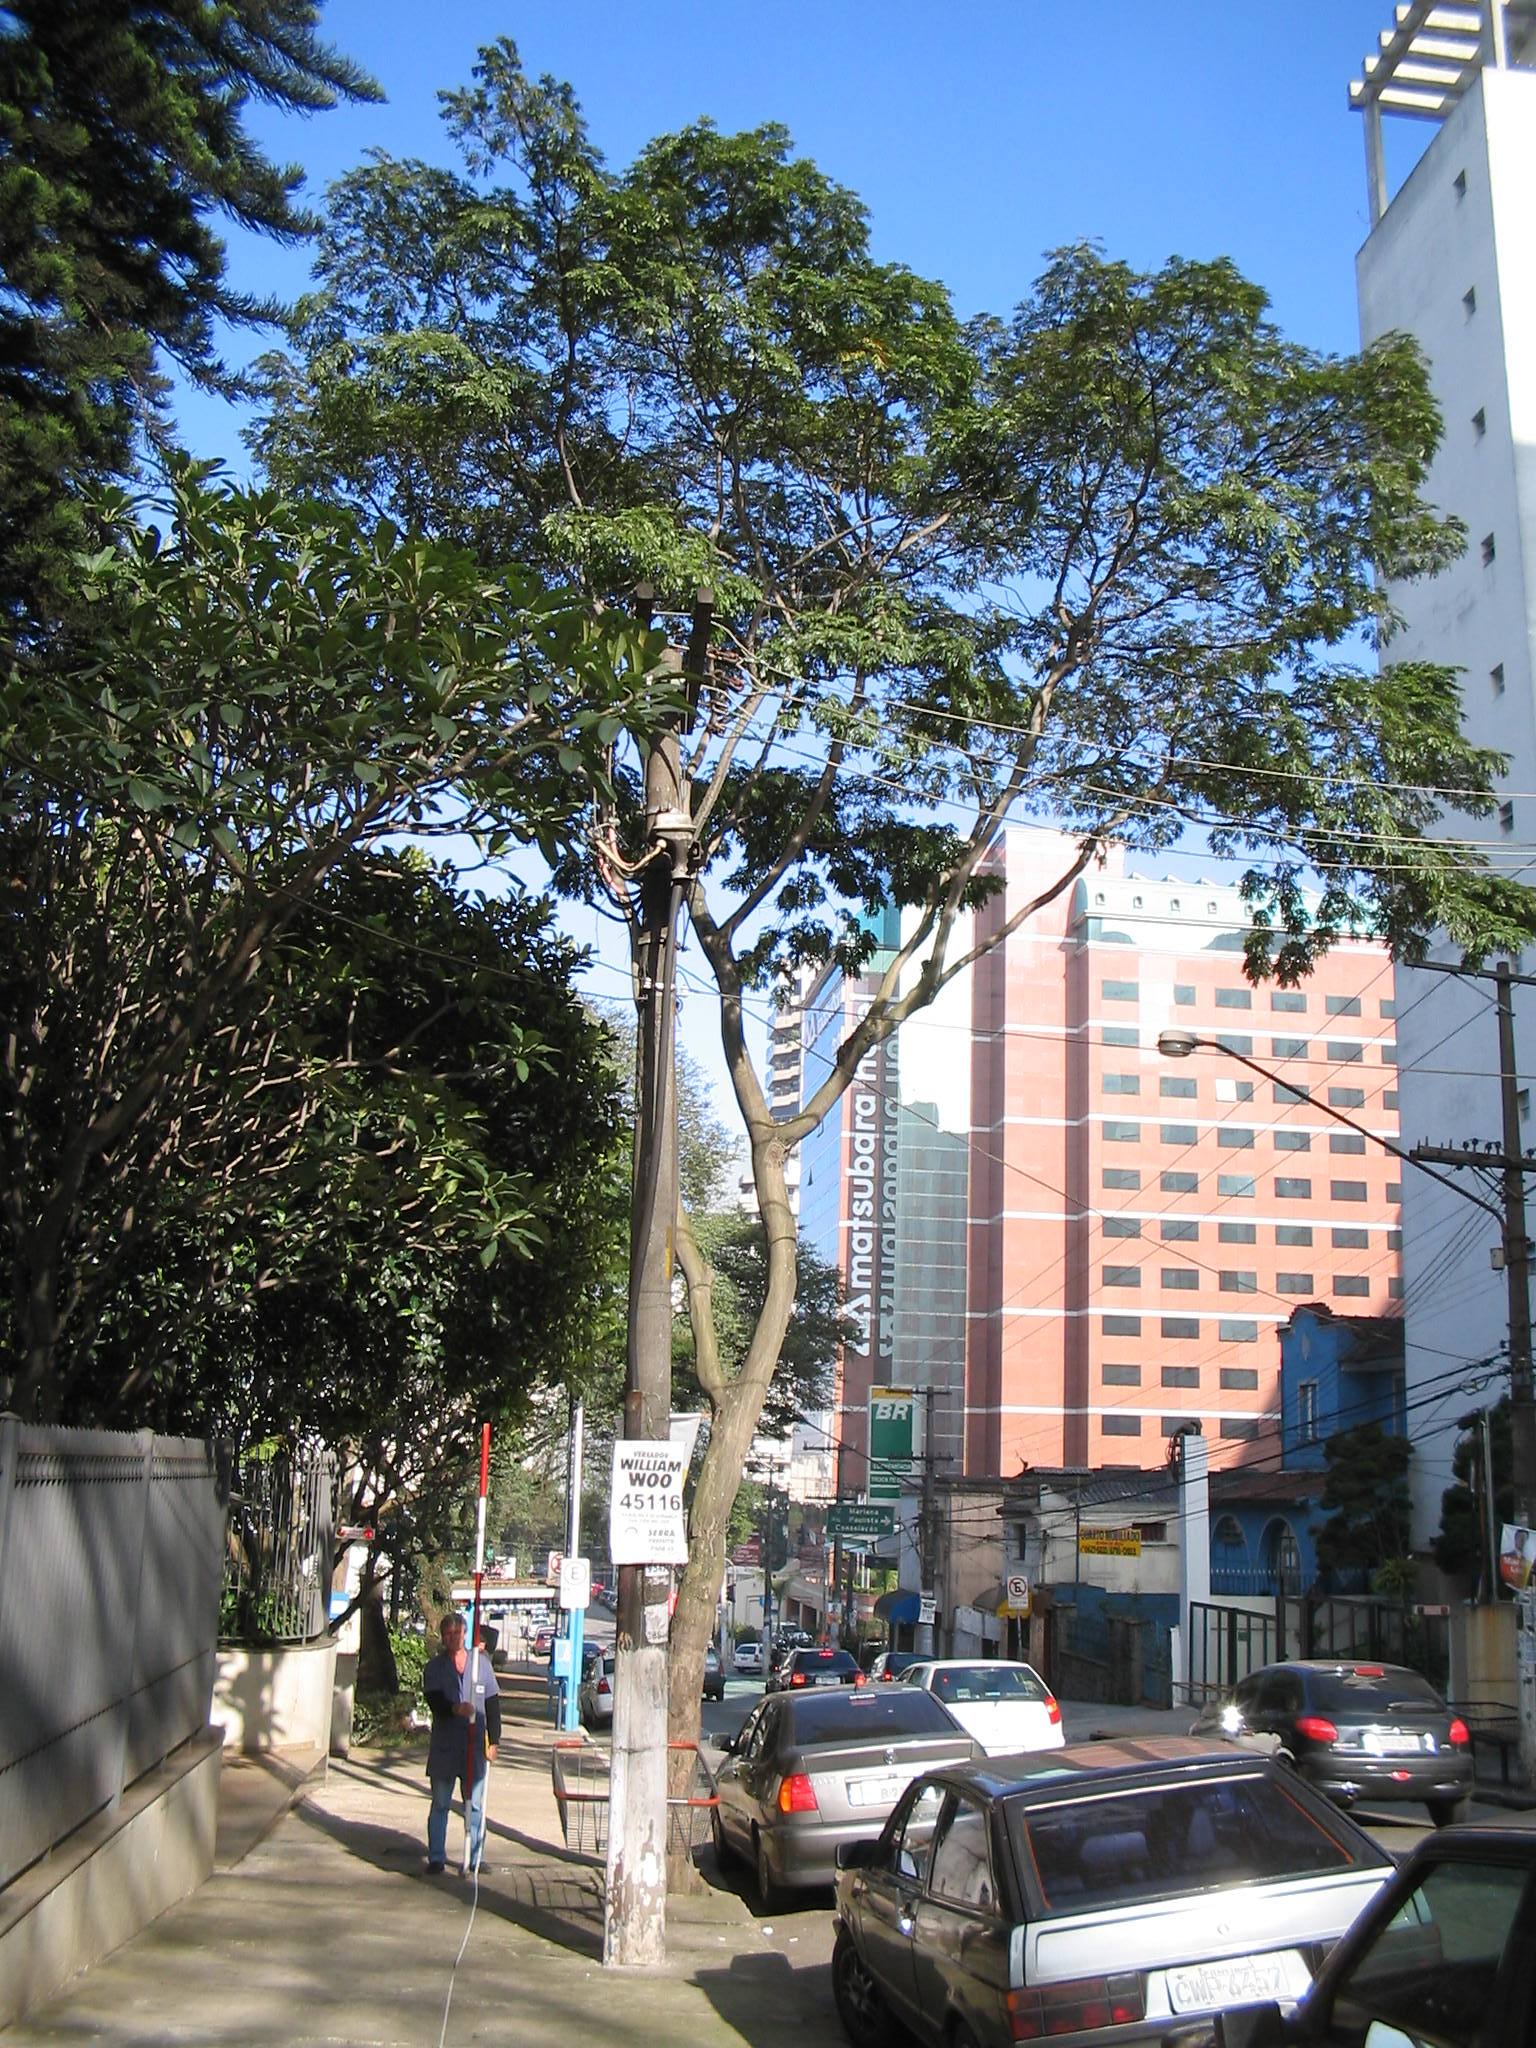crown: (287, 124, 1530, 1024)
stem: (644, 1390, 783, 1895)
stick: (423, 1426, 524, 1879)
tree: (282, 116, 1530, 1904)
